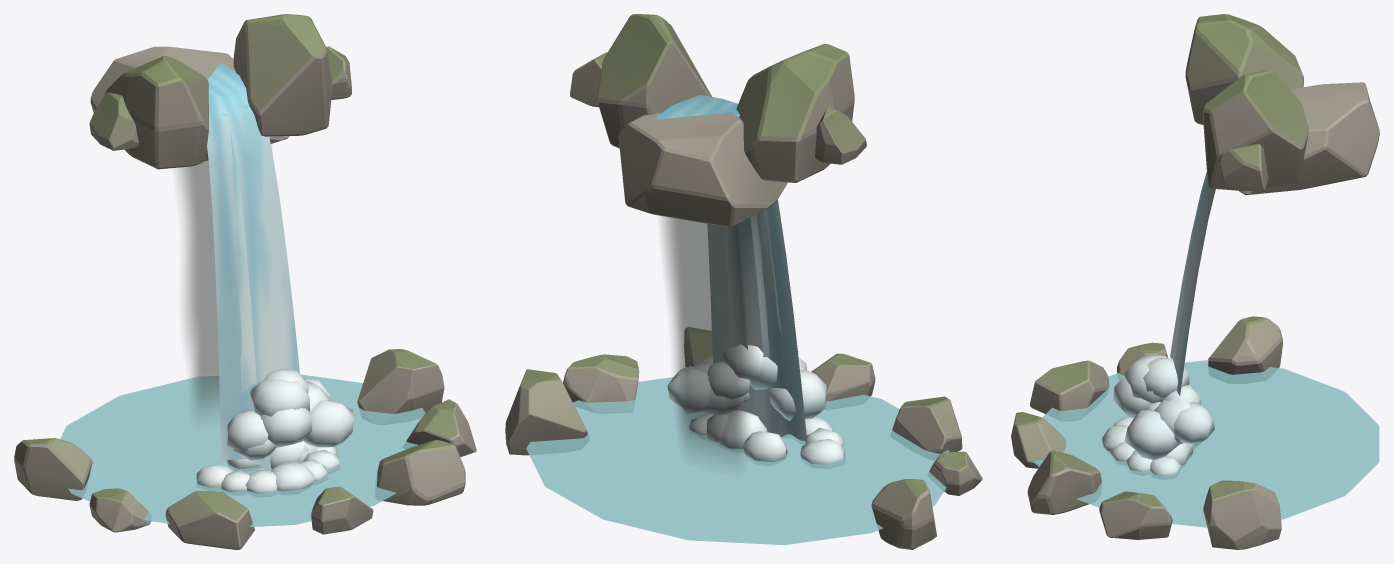
File: fall_small.glb
3 renders of one model, left to right at view 1: azimuth 30°, elevation 25°; view 2: azimuth 150°, elevation 25°; view 3: azimuth 270°, elevation 25°, orthographic. The views are drawn at different scales.
Parts seen in each view (by area): view 1: fall_small_pool, fall_small_lip, fall_small_rim, fall_small_sheet, fall_small_mist, fall_small_wet, fall_small_foam; view 2: fall_small_pool, fall_small_lip, fall_small_rim, fall_small_wet, fall_small_sheet, fall_small_mist, fall_small_foam; view 3: fall_small_pool, fall_small_lip, fall_small_rim, fall_small_mist, fall_small_sheet, fall_small_foam.
Part boxes in pixels (x1=…): fall_small_pool: x1=60, y1=374, x2=425, y2=526; fall_small_lip: x1=89, y1=14, x2=351, y2=169; fall_small_rim: x1=14, y1=349, x2=476, y2=549; fall_small_sheet: x1=207, y1=62, x2=299, y2=468; fall_small_mist: x1=227, y1=369, x2=353, y2=460; fall_small_wet: x1=178, y1=160, x2=219, y2=415; fall_small_foam: x1=196, y1=441, x2=339, y2=493; fall_small_pool: x1=526, y1=377, x2=949, y2=545; fall_small_lip: x1=570, y1=14, x2=866, y2=227; fall_small_rim: x1=505, y1=327, x2=982, y2=549; fall_small_wet: x1=662, y1=214, x2=757, y2=461; fall_small_sheet: x1=653, y1=95, x2=807, y2=441; fall_small_mist: x1=667, y1=344, x2=826, y2=420; fall_small_foam: x1=689, y1=410, x2=844, y2=466; fall_small_pool: x1=1034, y1=360, x2=1379, y2=527; fall_small_lip: x1=1185, y1=14, x2=1379, y2=195; fall_small_rim: x1=1011, y1=316, x2=1282, y2=549; fall_small_mist: x1=1113, y1=354, x2=1214, y2=459; fall_small_sheet: x1=1170, y1=120, x2=1311, y2=396; fall_small_foam: x1=1102, y1=416, x2=1198, y2=476.
Size of the model in its own units: 2.42 by 2.44 by 1.98.
6 materials, 5 textured.
